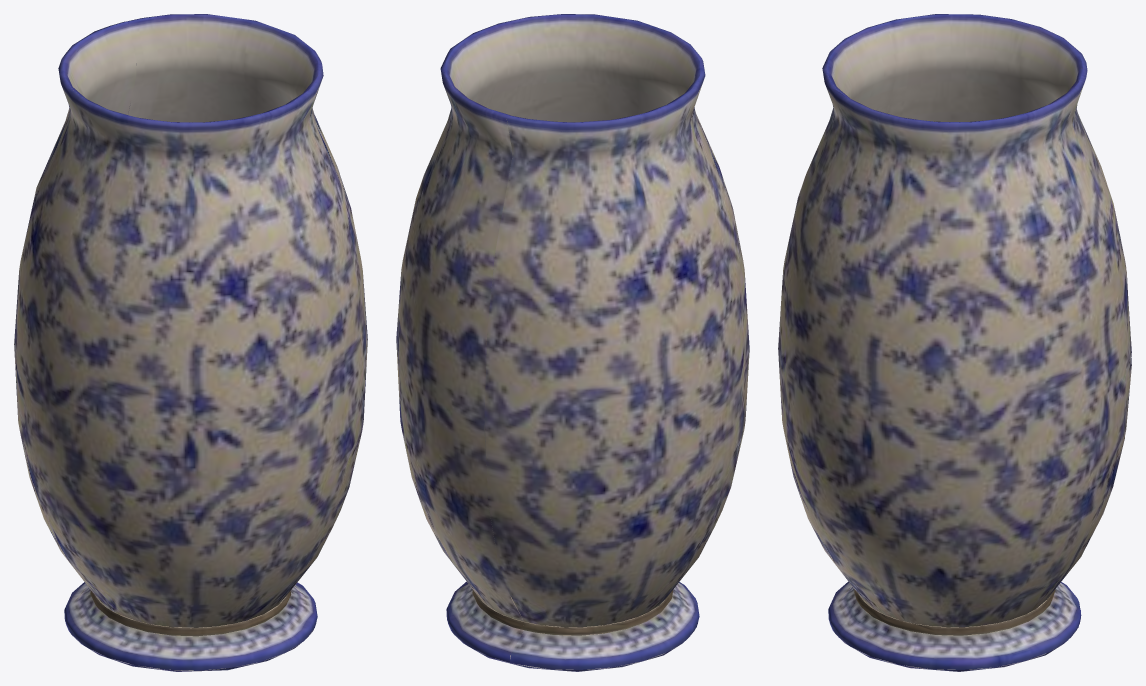
File: antique_ceramic_vase_01.glb
3 views of the same model, side by side, from view 1: azimuth 30°, elevation 25°; view 2: azimuth 150°, elevation 25°; view 3: azimuth 270°, elevation 25° (orthographic).
Parts seen in each view (by area): view 1: antique_ceramic_vase_01; view 2: antique_ceramic_vase_01; view 3: antique_ceramic_vase_01.
Part boxes in pixels (x1,y1,x2,y2): antique_ceramic_vase_01: (14, 14, 367, 671); antique_ceramic_vase_01: (396, 14, 749, 671); antique_ceramic_vase_01: (778, 14, 1131, 671).
Size of the model in its own units: 0.2554 by 0.4398 by 0.2556.
Materials: 1 (1 with a texture image).
